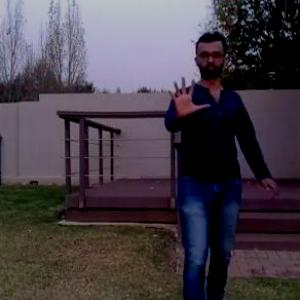follow_hand: (163, 71, 212, 120)
